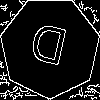D: (25, 22, 70, 75)
